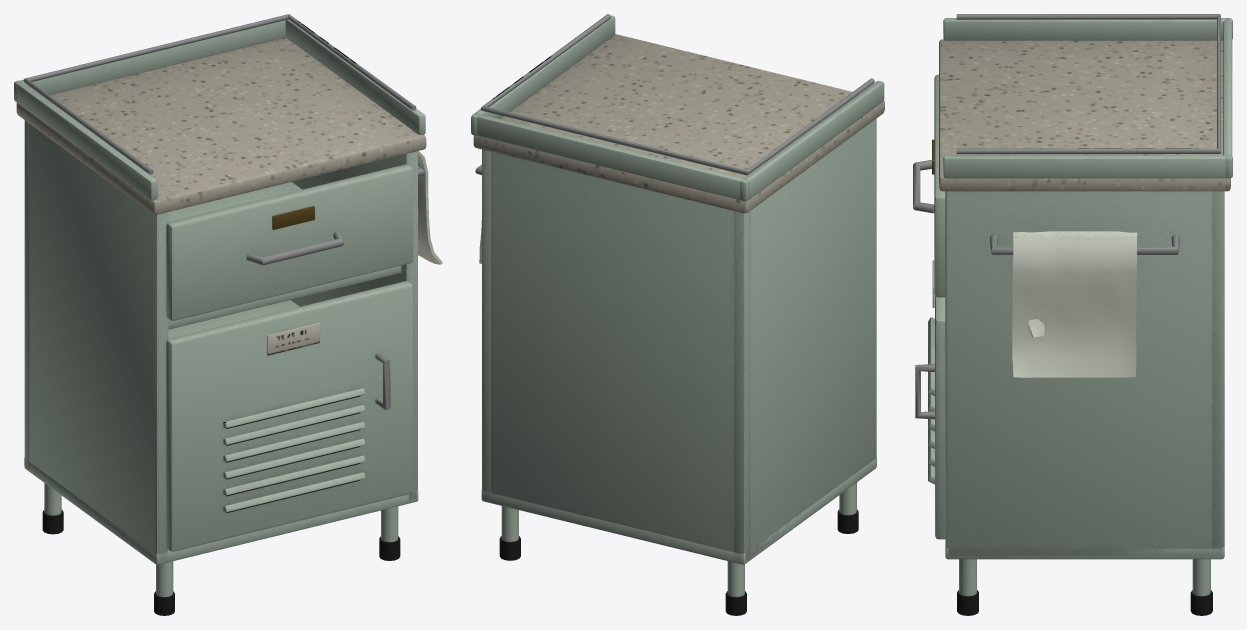
Rendered from CTCC_PROP_BedsideCabinet.fbx.
3 views of the same model, side by side, from view 1: azimuth 30°, elevation 25°; view 2: azimuth 150°, elevation 25°; view 3: azimuth 270°, elevation 25° (orthographic). The views are drawn at different scales.
Parts seen in each view (by area): view 1: CTCC_PROP_BedsideCabinet_LOD0; view 2: CTCC_PROP_BedsideCabinet_LOD0; view 3: CTCC_PROP_BedsideCabinet_LOD0.
Boxes of the visible parts, bbox=[...] form: CTCC_PROP_BedsideCabinet_LOD0: bbox=[14, 14, 442, 615]; CTCC_PROP_BedsideCabinet_LOD0: bbox=[471, 14, 884, 615]; CTCC_PROP_BedsideCabinet_LOD0: bbox=[913, 14, 1232, 615].
Size of what is drawn, in the model's own units: 0.6068 by 0.8023 by 0.4927.
